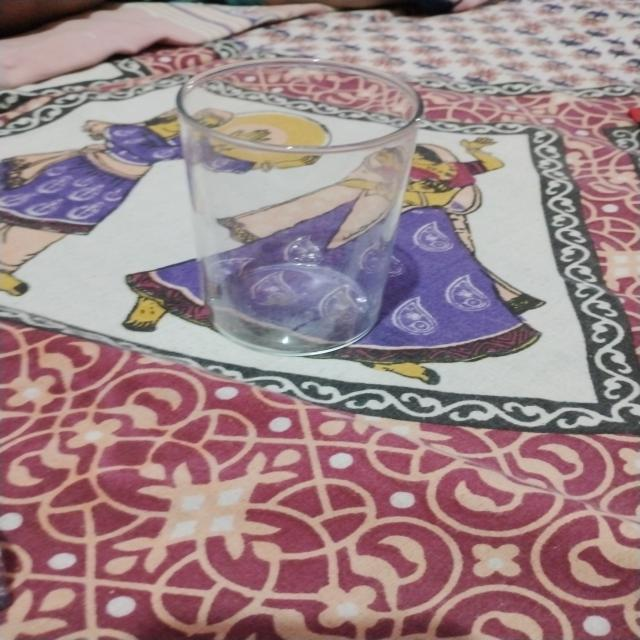Glass: (173, 53, 428, 358)
